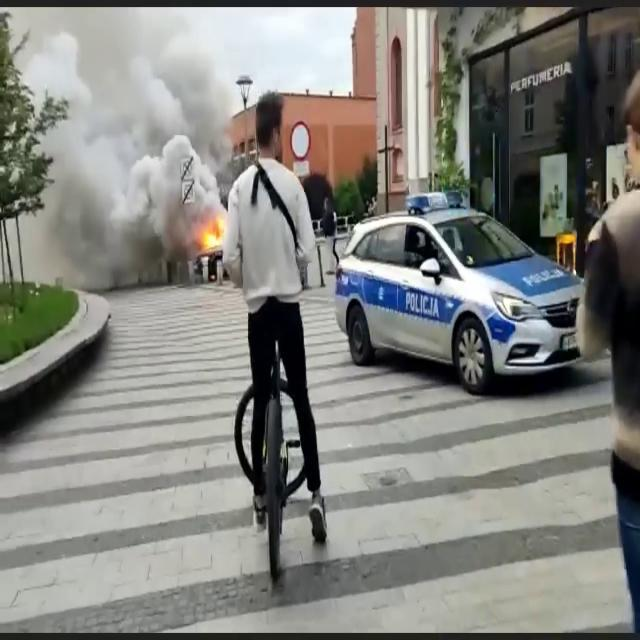Fire: (193, 210, 229, 256)
Smoke: (13, 3, 241, 265)
